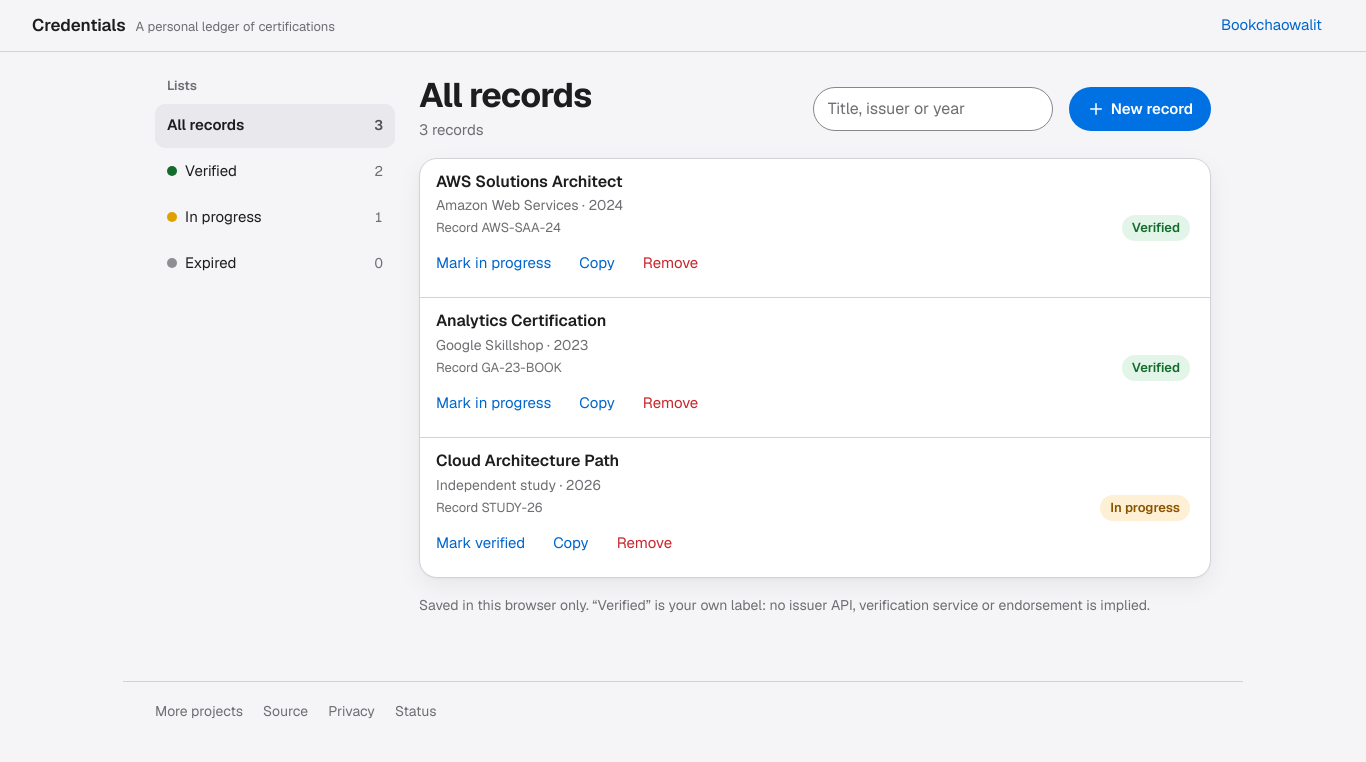
it: composer › Cancel closes the composer without adding
The width and height of the screenshot is (1366, 762).
Click the button "New record" at (1140, 109), box [1069,87,1211,131]
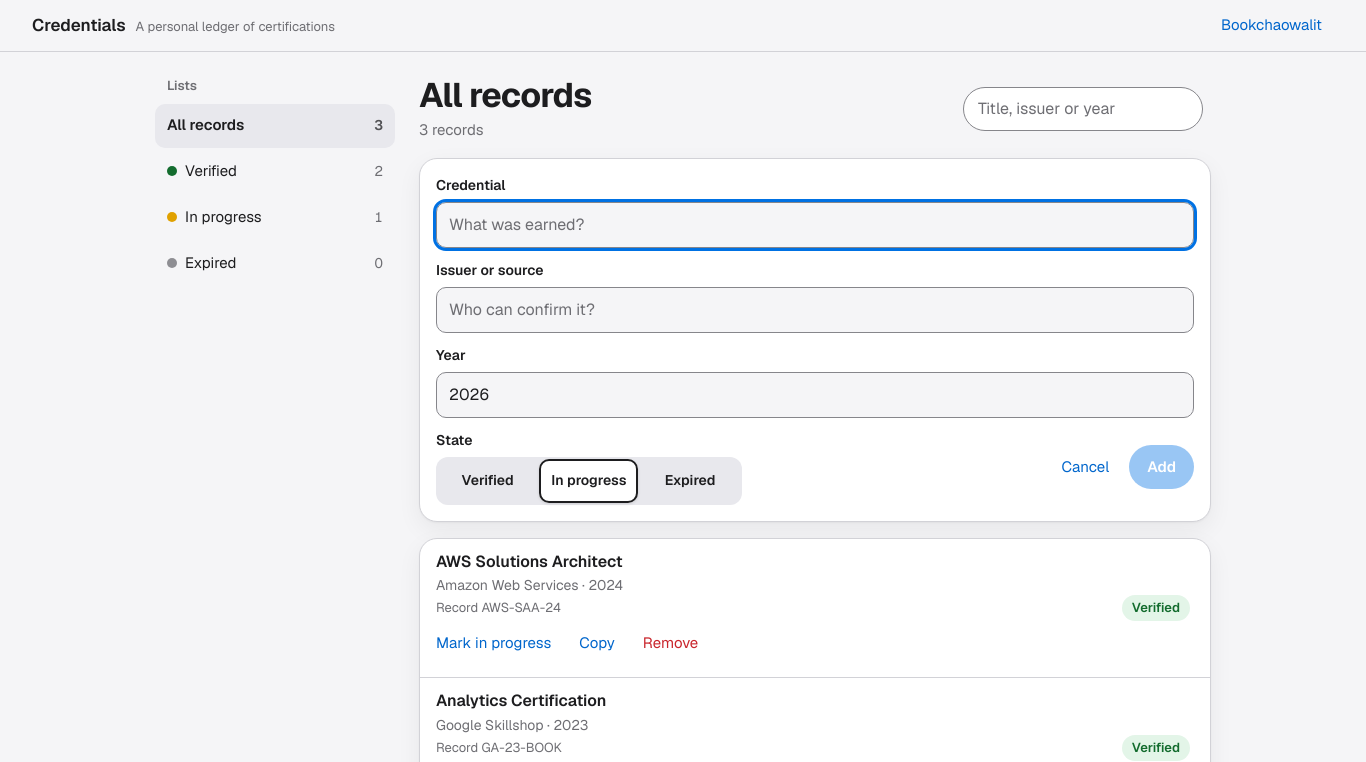
Click the button "Cancel" at (1085, 467), box [1050,445,1121,489]
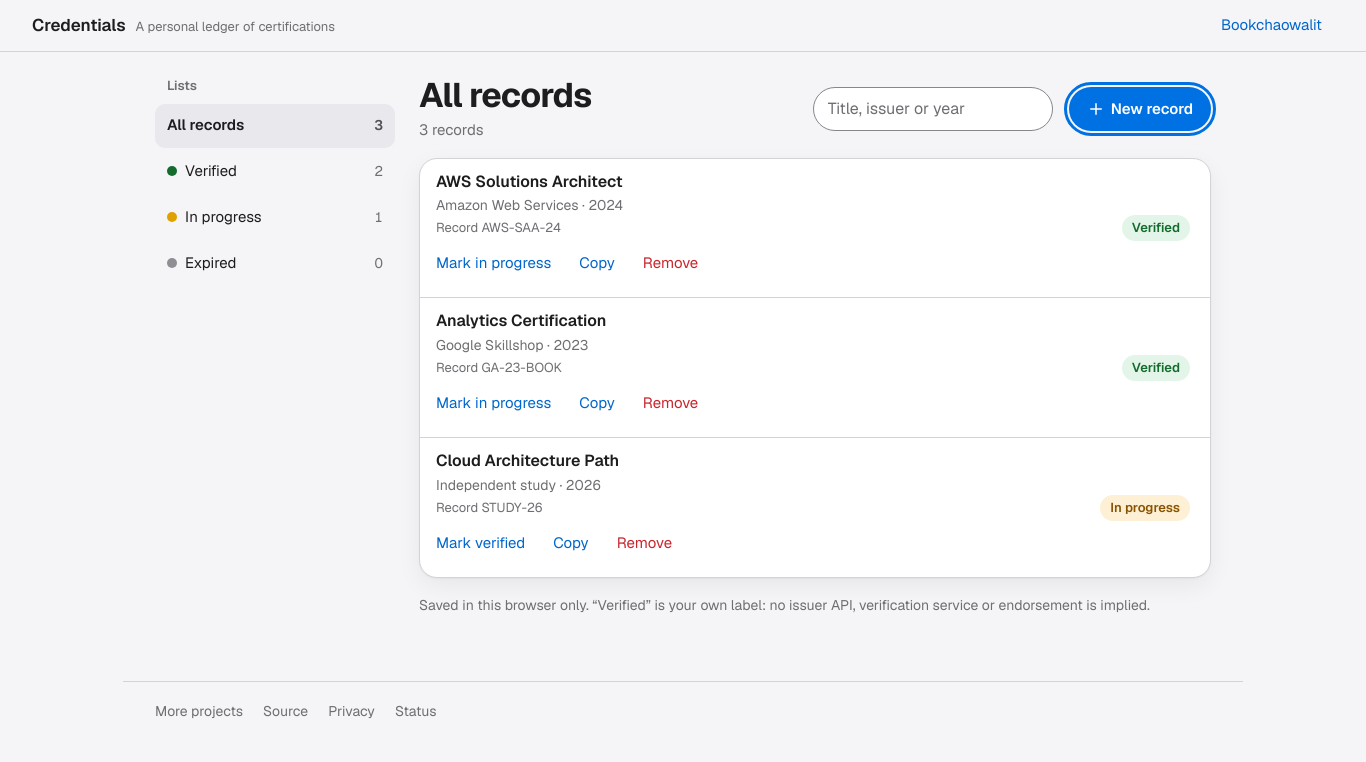
Result: the form with class "as-composer" is gone
